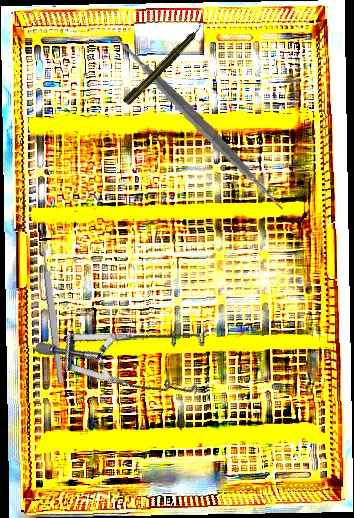Handpiece: (121, 21, 207, 108)
Spatula Surgical: (96, 19, 301, 227)
Speculum: (33, 255, 229, 447)
Surgical Spoon: (36, 222, 66, 385)
